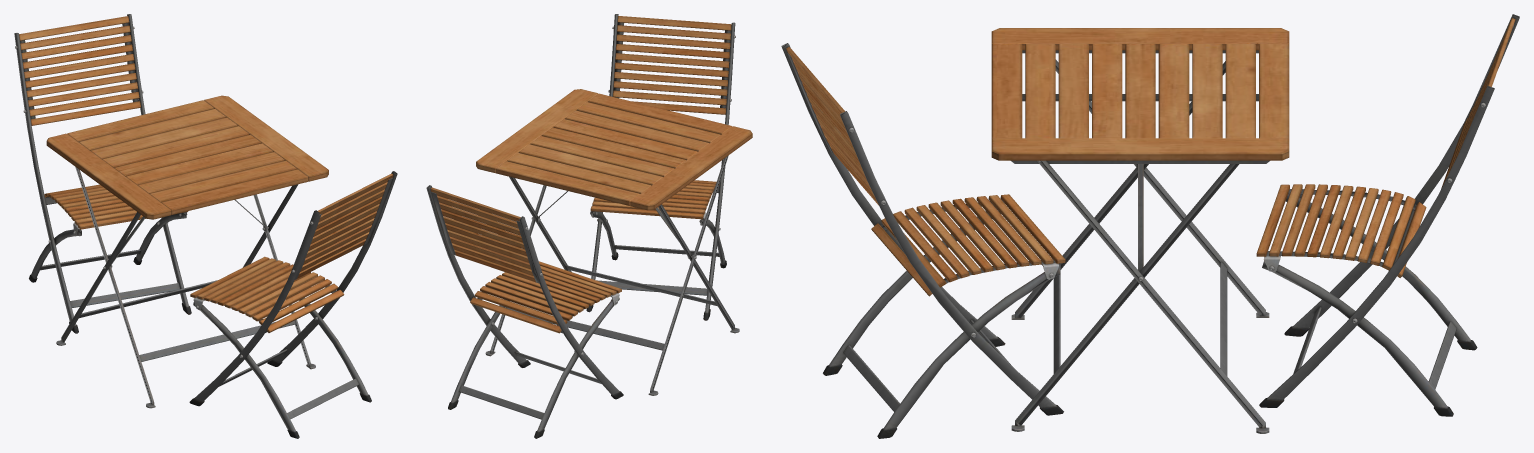
The model's file is tuinset_bistro.gltf.
3 renders of one model, left to right at view 1: azimuth 30°, elevation 25°; view 2: azimuth 150°, elevation 25°; view 3: azimuth 270°, elevation 25°, orthographic. The views are drawn at different scales.
Parts seen in each view (by area): view 1: outdoor_table_chair_set_01_table, outdoor_table_chair_set_01_chair_02, outdoor_table_chair_set_01_chair_01; view 2: outdoor_table_chair_set_01_table, outdoor_table_chair_set_01_chair_02, outdoor_table_chair_set_01_chair_01; view 3: outdoor_table_chair_set_01_table, outdoor_table_chair_set_01_chair_01, outdoor_table_chair_set_01_chair_02.
Boxes of the visible parts, left/top/right/bottom form: outdoor_table_chair_set_01_table: left=46, top=95, right=328, bottom=408; outdoor_table_chair_set_01_chair_02: left=14, top=14, right=191, bottom=333; outdoor_table_chair_set_01_chair_01: left=189, top=171, right=397, bottom=438; outdoor_table_chair_set_01_table: left=476, top=89, right=752, bottom=395; outdoor_table_chair_set_01_chair_02: left=426, top=185, right=623, bottom=438; outdoor_table_chair_set_01_chair_01: left=586, top=14, right=735, bottom=320; outdoor_table_chair_set_01_table: left=991, top=28, right=1289, bottom=433; outdoor_table_chair_set_01_chair_01: left=781, top=43, right=1065, bottom=438; outdoor_table_chair_set_01_chair_02: left=1256, top=14, right=1519, bottom=416.
Bounding box in the file's own units: 0.7417 × 0.8575 × 1.72.
2 materials, 2 textured.
